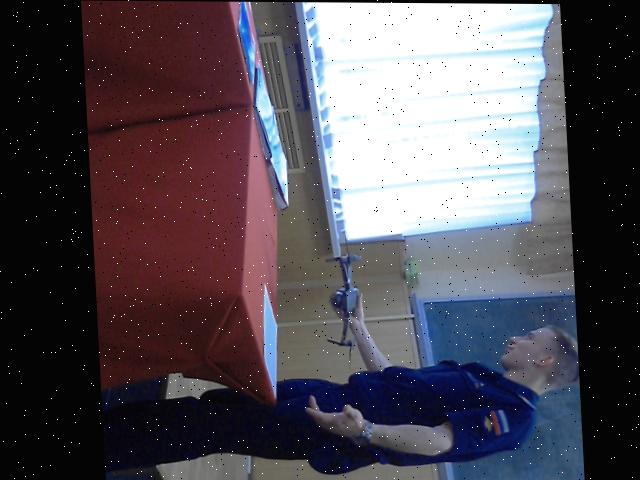drone: (312, 242, 383, 366)
